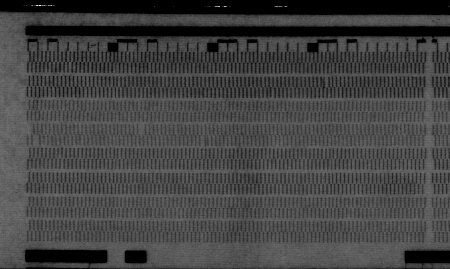Broken hole: (24, 125, 40, 146), (136, 124, 148, 137)
Oblique printing: (319, 76, 332, 89), (265, 86, 277, 98), (199, 136, 209, 148)
